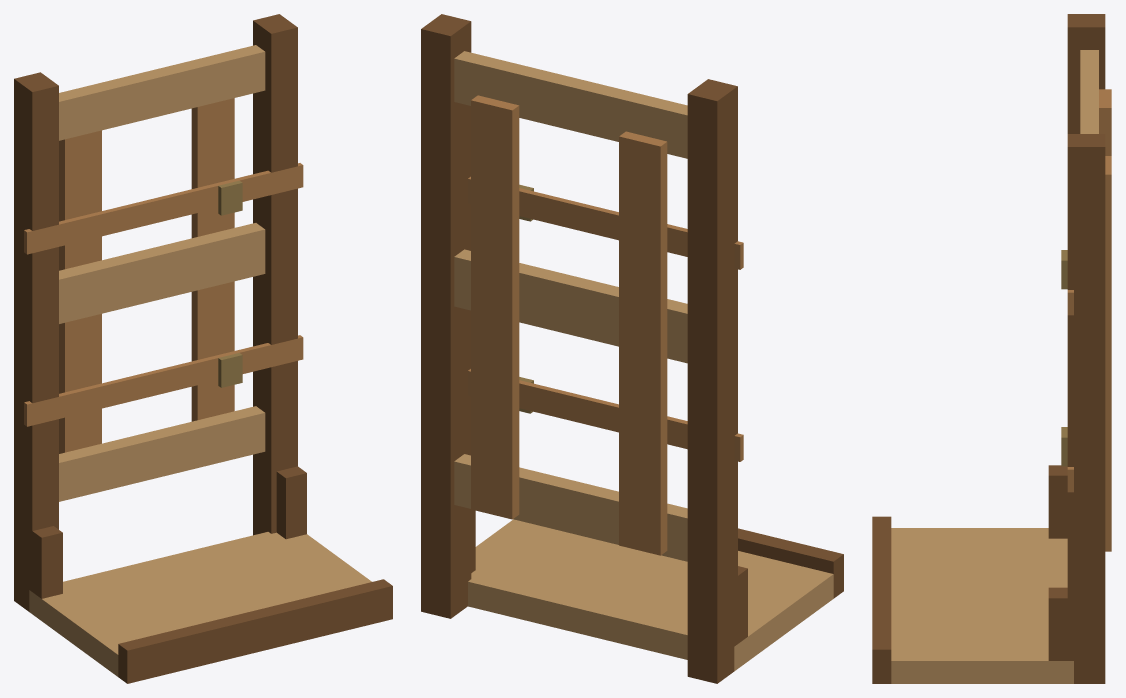
Rendered from frame_pack.glb.
The picture shows the model from 3 angles, left to right: view 1: azimuth 30°, elevation 25°; view 2: azimuth 150°, elevation 25°; view 3: azimuth 270°, elevation 25°; orthographic projection. The views are drawn at different scales.
Visible parts, largest first — view 1: frame_pack:compound; view 2: frame_pack:compound; view 3: frame_pack:compound.
Boxes of the visible parts, x1,y1,x2,y2 form: frame_pack:compound: [14, 14, 392, 683]; frame_pack:compound: [421, 14, 843, 683]; frame_pack:compound: [872, 14, 1111, 683].
Bounding box in the file's own units: 0.416 × 0.752 × 0.304.
